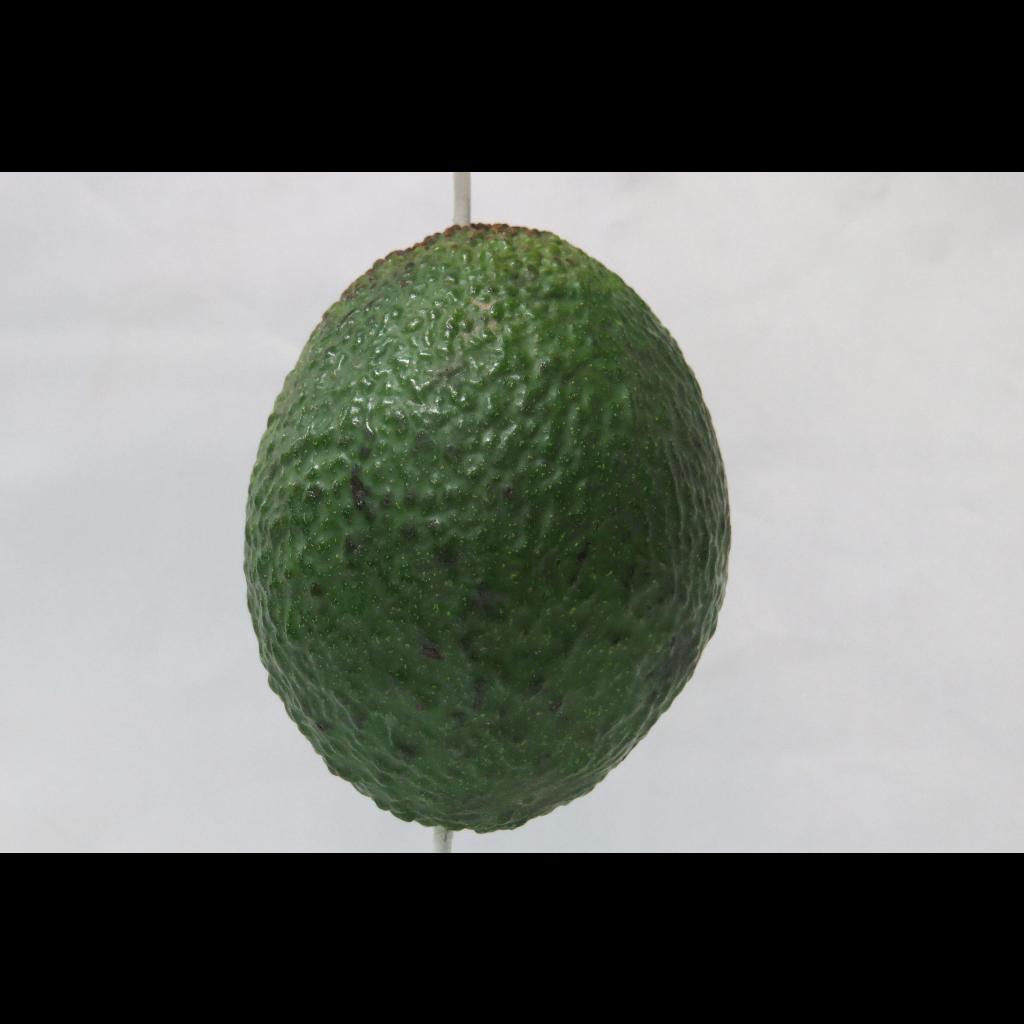Healthy: (186, 190, 784, 840)
